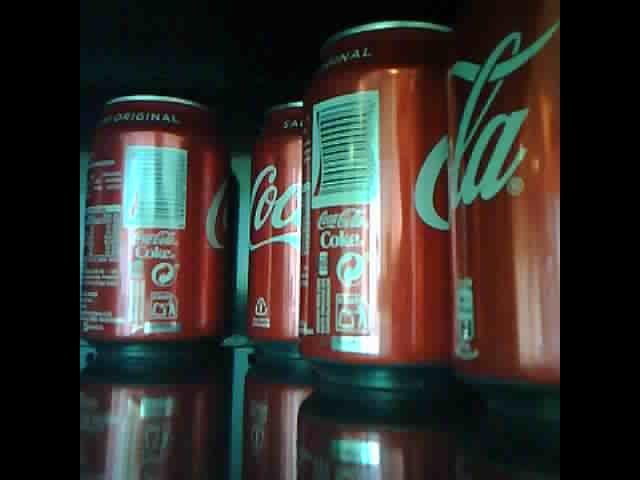coca cola: (299, 20, 452, 383), (450, 2, 559, 395), (85, 87, 235, 353), (246, 97, 303, 358)
